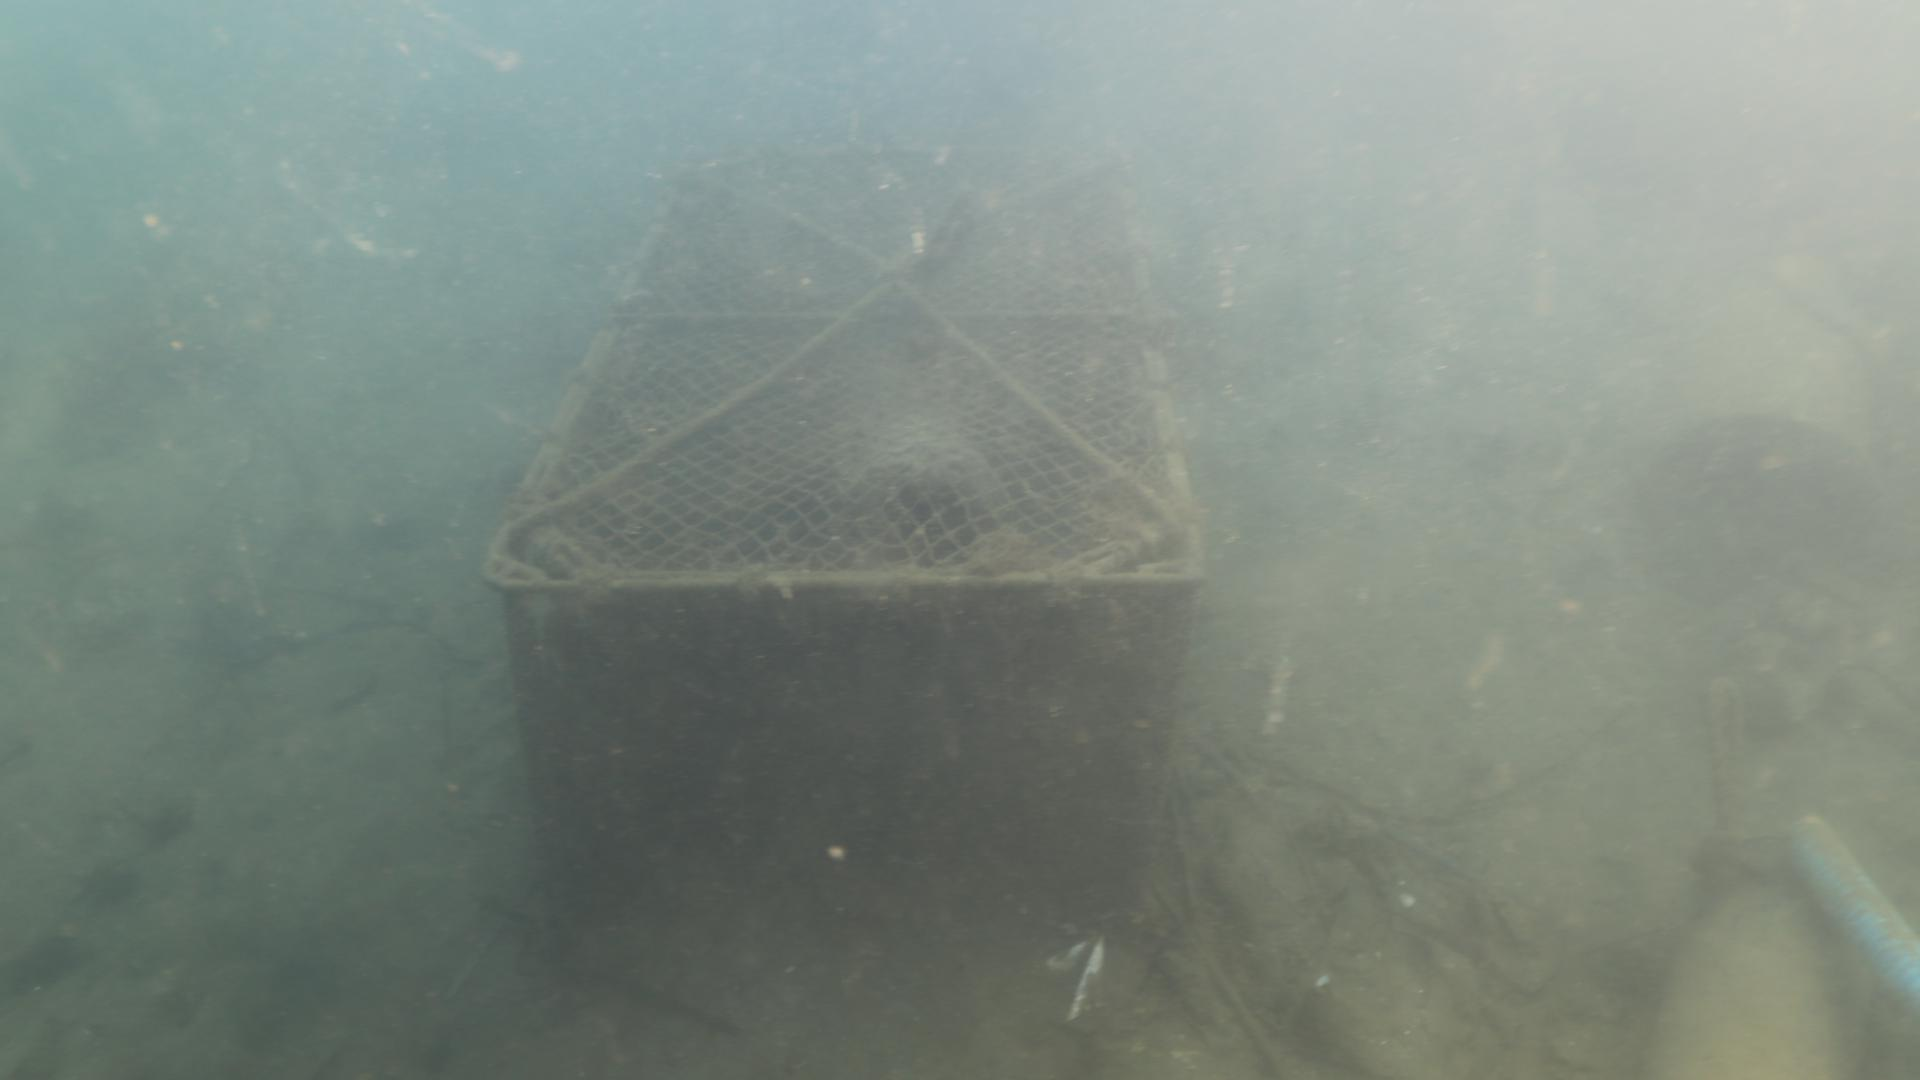rectangular fish trap: (476, 137, 1209, 953)
